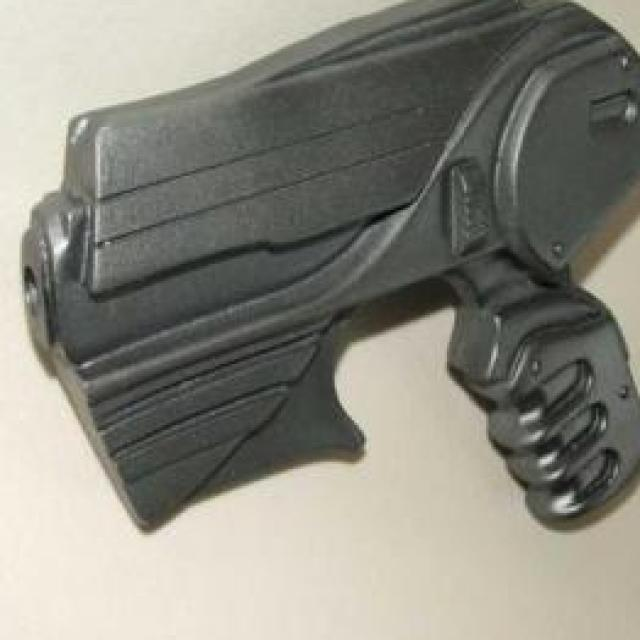pistol: (17, 0, 640, 537)
